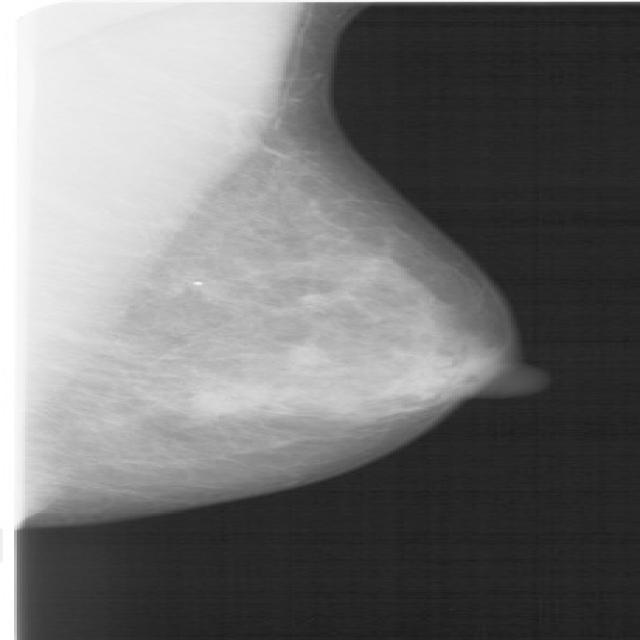tumour: (188, 380, 270, 414)
